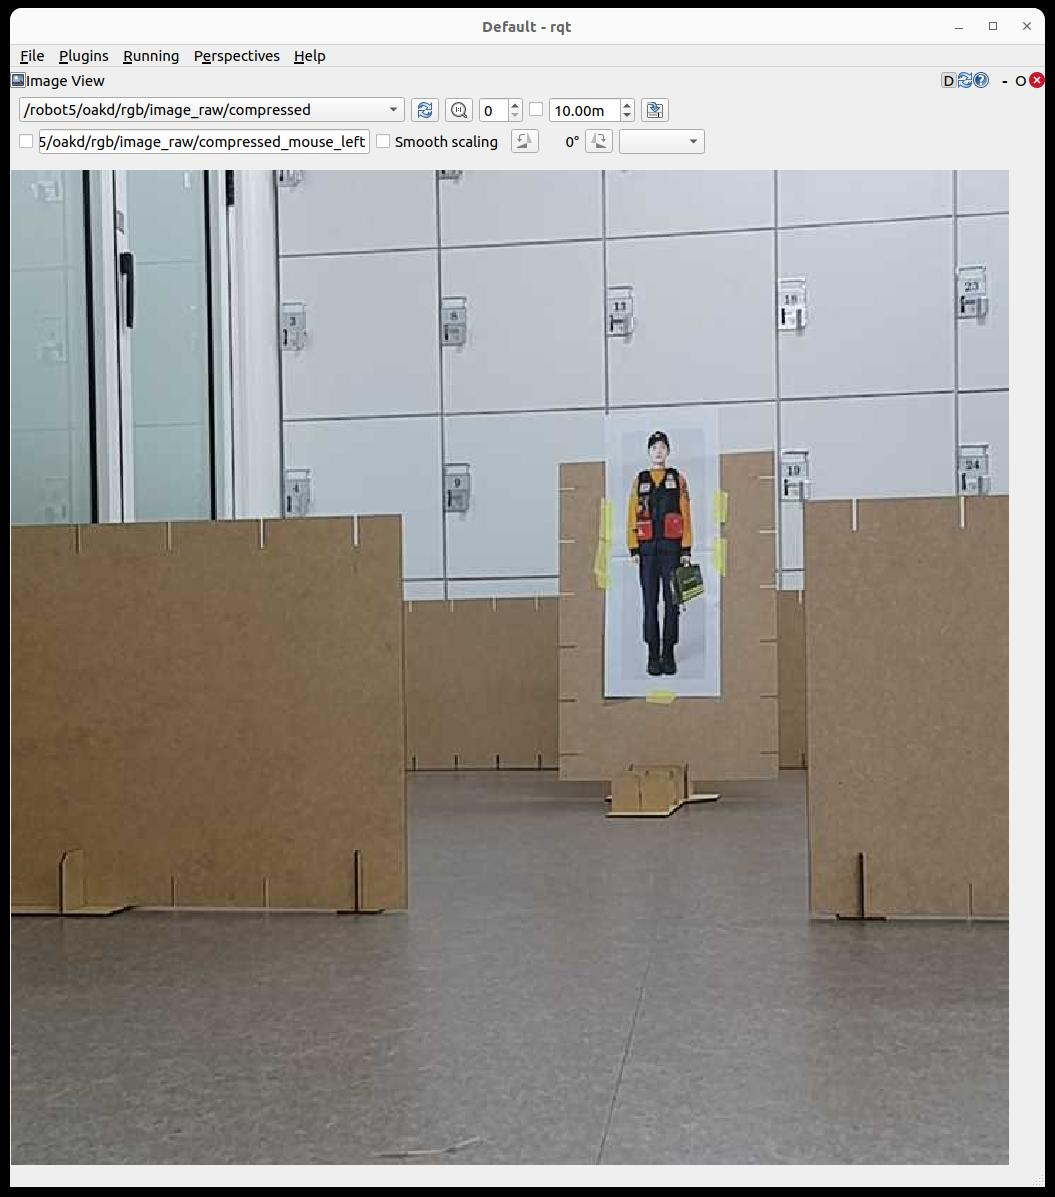Responder: (627, 432, 691, 676)
